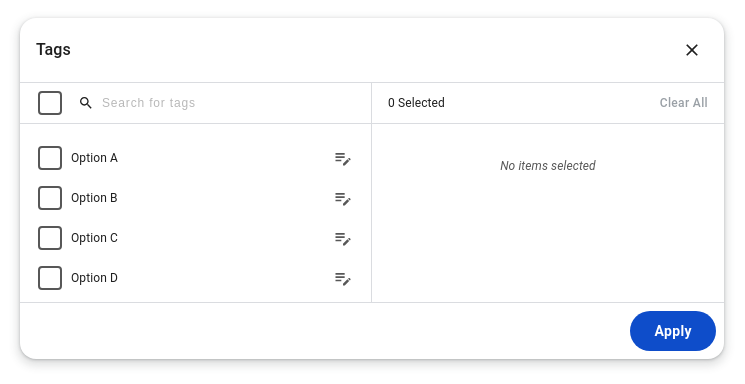
Scenario: FilterAnnotationsMultiSelect › search functionality › should show custom filterType in no results message
This screenshot has width=745, height=384.
Type "xyz" into the field with placeholder "Search for tags" at (230, 103), box [102,94,359,112]
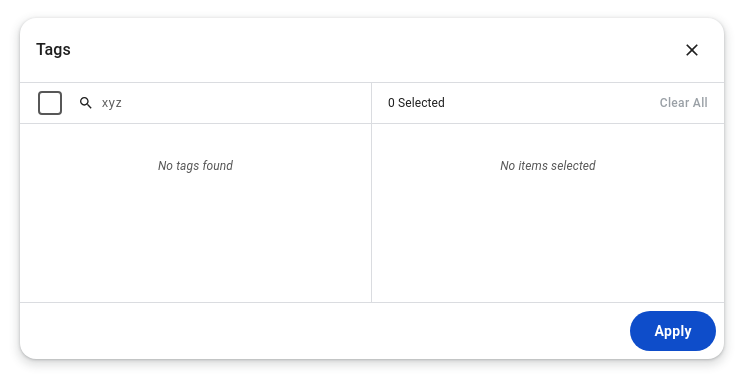
Check: the text "No tags found" is shown, box [158,159,233,173]
